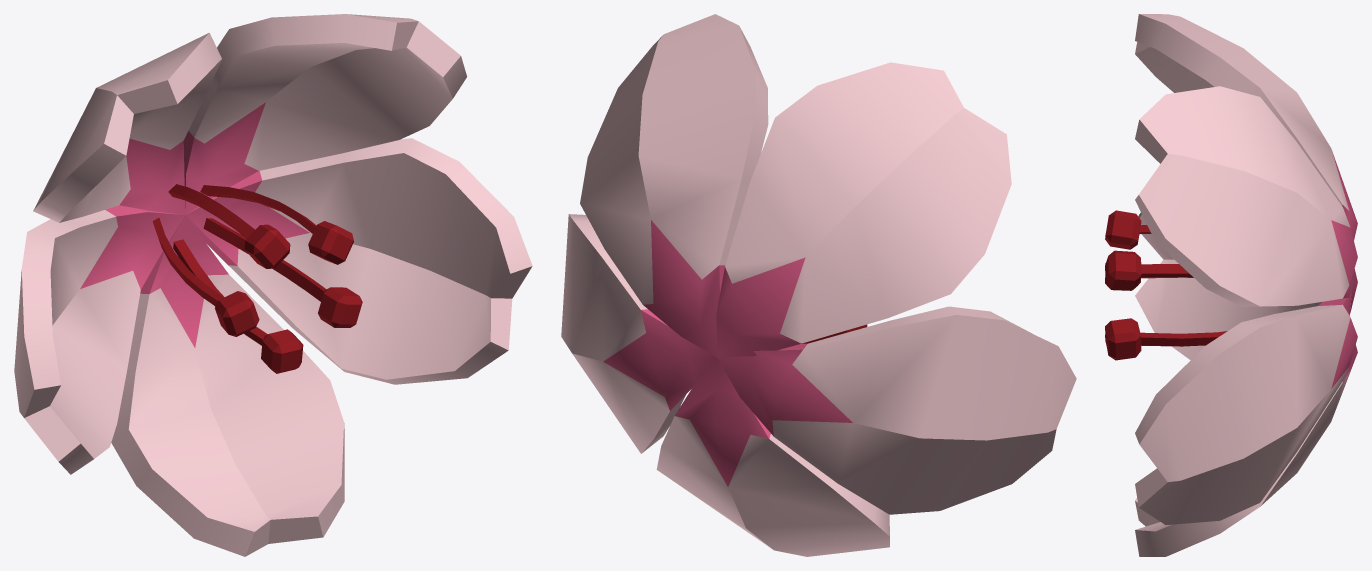
The model's file is cc0-sakura-flower-lod0.glb.
3 renders of one model, left to right at view 1: azimuth 30°, elevation 25°; view 2: azimuth 150°, elevation 25°; view 3: azimuth 270°, elevation 25°, orthographic. The views are drawn at different scales.
Visible parts, largest first — view 1: part_0; view 2: part_0; view 3: part_0.
Boxes of the visible parts, x1,y1,x2,y2 form: part_0: (14, 14, 532, 556); part_0: (561, 14, 1076, 556); part_0: (1105, 14, 1357, 556).
Size of the model in its own units: 0.9715 by 0.954 by 0.4495.
Materials: 1 (1 with a texture image).
